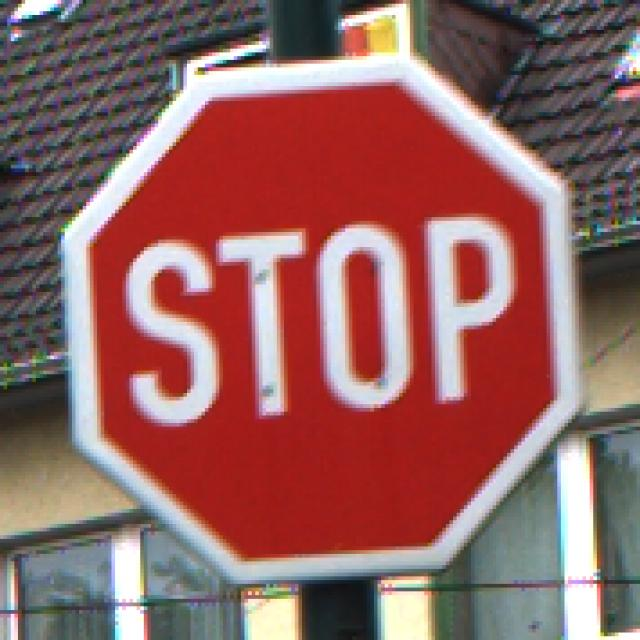STOP: (59, 54, 587, 589)
